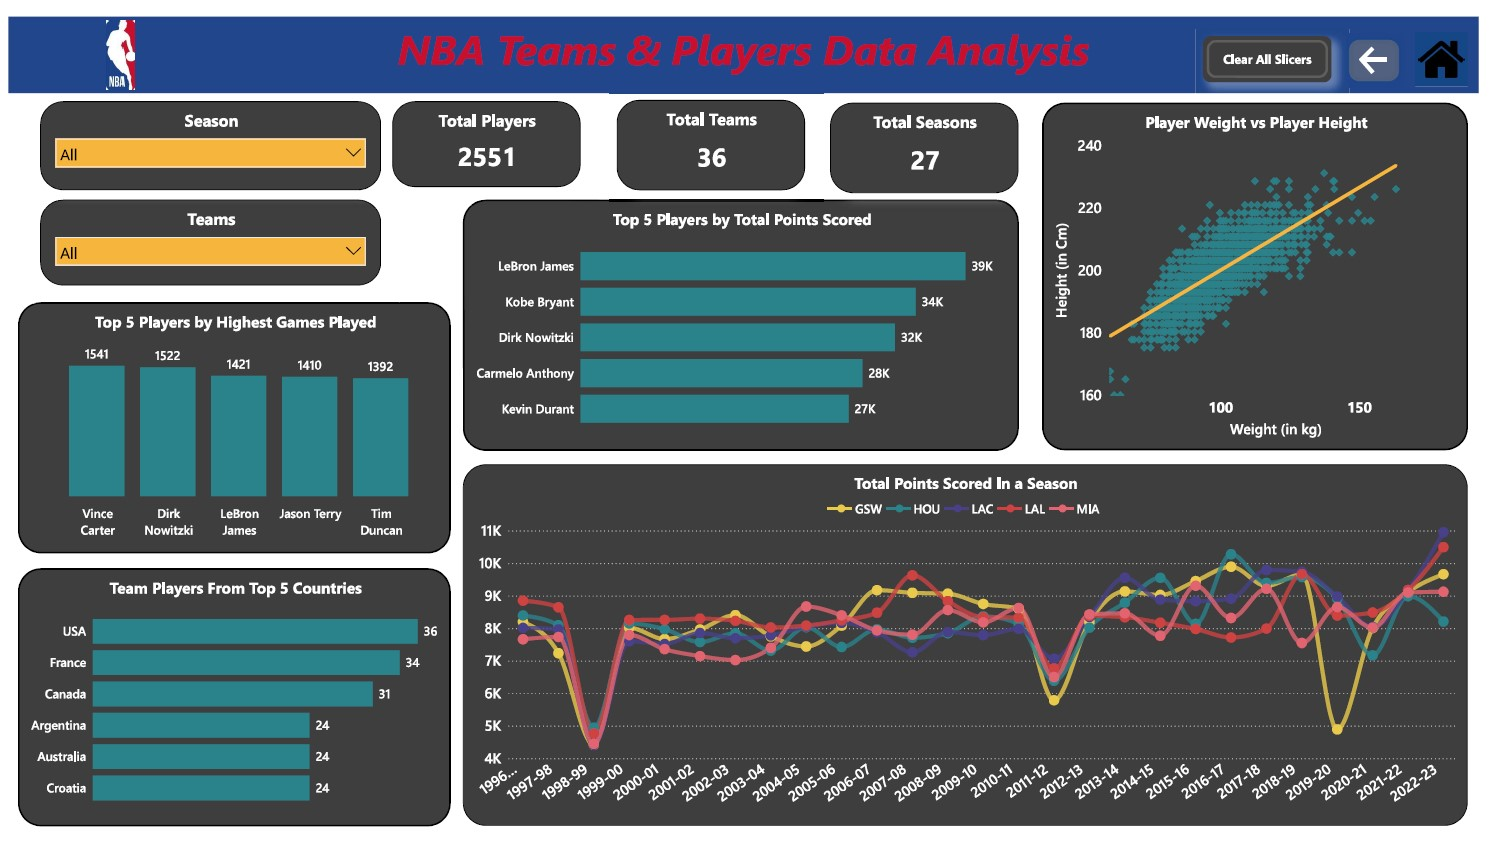

Layout of this report page (visuals, bound fields, positions):
{"tool":"powerbi","page":{"name":"Overall Analysis","canvas":[1920,1080],"ordinal":2},"visuals":[{"type":"scatterChart","title":"Player Weight vs Player Height","fields":{"Y":["all_seasons.player_height"],"X":["all_seasons.player_weight"]},"box":[1350,112.2,555.6,454.2],"z":0},{"type":"barChart","title":"Top 5 Players by Total Points Scored","fields":{"Category":["all_seasons.player_name"],"Y":["all_seasons.Total_points"]},"box":[593.6,238.9,725.7,327.5],"z":1000},{"type":"columnChart","title":"Top 5 Players by Highest Games Played ","fields":{"Category":["all_seasons.player_name"],"Y":["all_seasons.gp"]},"box":[12.7,372.8,564.6,327.5],"z":2000},{"type":"slicer","title":"Teams","fields":{"Values":["all_seasons.team_abbreviation"]},"box":[41.6,238.9,445.2,112.2],"z":3000},{"type":"slicer","title":"Season","fields":{"Values":["all_seasons.season"]},"box":[41.6,110.4,445.2,115.8],"z":4000},{"type":"card","title":"Total Players","fields":{"Values":["all_seasons.player_name"]},"box":[501.3,110.4,246.1,112.2],"z":5000},{"type":"card","title":"Total Teams","fields":{"Values":["all_seasons.team_abbreviation"]},"box":[794.4,108.6,246.1,117.6],"z":6000},{"type":"card","title":"Total Seasons","fields":{"Values":["all_seasons.season"]},"box":[1073.1,112.2,246.1,117.6],"z":7000},{"type":"clusteredBarChart","title":"Team Players From Top 5 Countries","fields":{"Category":["all_seasons.country"],"Y":["all_seasons.team_abbreviation"]},"box":[12.7,720.2,564.6,336.6],"z":8000},{"type":"lineChart","title":"Total Points Scored In a Season","fields":{"Category":["all_seasons.season"],"Series":["all_seasons.team_abbreviation"],"Y":["all_seasons.Total_points"]},"box":[593.6,584.5,1312,472.3],"z":9000},{"type":"textbox","box":[0,0,1920.1,99.5],"z":10000},{"type":"image","box":[41.6,0,209.9,99.5],"z":11000},{"type":"actionButton","box":[1559.9,25.3,168.3,59.7],"z":12000},{"type":"image","box":[1836.8,19.9,68.8,70.6],"z":13000},{"type":"actionButton","box":[1742.7,21.7,81.4,70.6],"z":14000}]}

Visuals, with their boxes in screenshot pixels (x1, y1, x2, y2), scaled from the page's 1920x1080 canvas onto the 1493x846 screenshot:
"Player Weight vs Player Height" scatterChart: <region>1050, 88, 1482, 444</region>
"Top 5 Players by Total Points Scored" barChart: <region>462, 187, 1026, 444</region>
"Top 5 Players by Highest Games Played " columnChart: <region>10, 292, 449, 549</region>
"Teams" slicer: <region>32, 187, 379, 275</region>
"Season" slicer: <region>32, 86, 379, 177</region>
"Total Players" card: <region>390, 86, 581, 174</region>
"Total Teams" card: <region>618, 85, 809, 177</region>
"Total Seasons" card: <region>834, 88, 1026, 180</region>
"Team Players From Top 5 Countries" clusteredBarChart: <region>10, 564, 449, 828</region>
"Total Points Scored In a Season" lineChart: <region>462, 458, 1482, 828</region>
textbox: <region>0, 0, 1492, 78</region>
image: <region>32, 0, 196, 78</region>
actionButton: <region>1213, 20, 1344, 67</region>
image: <region>1428, 16, 1482, 71</region>
actionButton: <region>1355, 17, 1418, 72</region>
